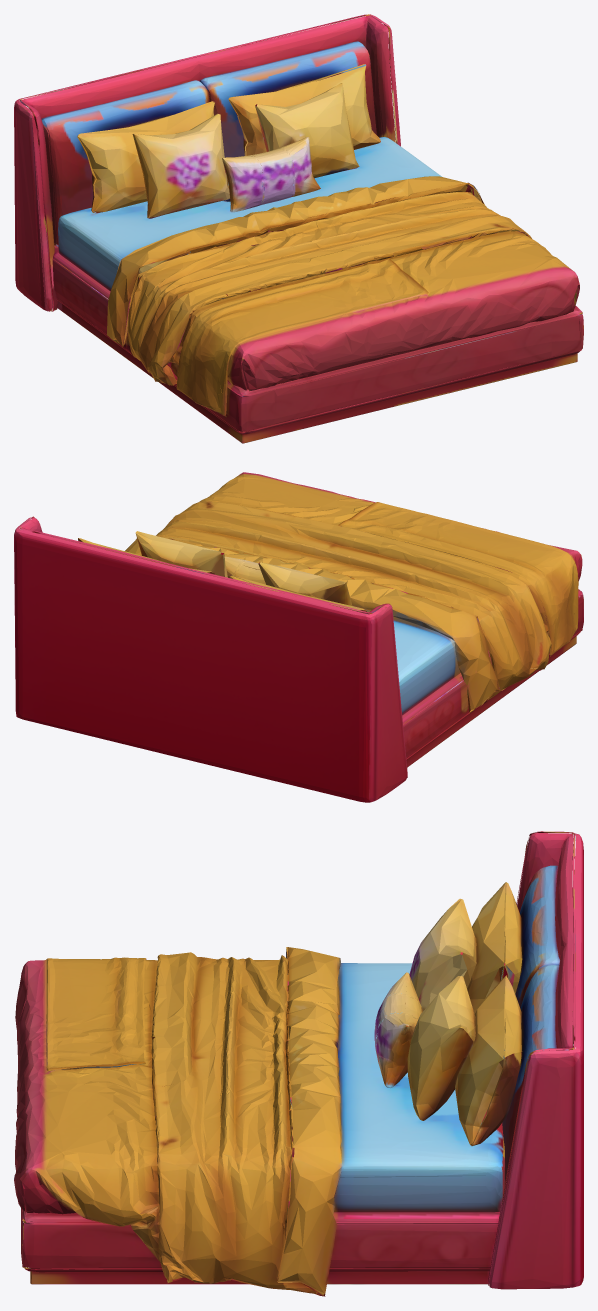
File: edited_mesh.glb
The picture shows the model from 3 angles, top to bottom: view 1: azimuth 30°, elevation 25°; view 2: azimuth 150°, elevation 25°; view 3: azimuth 270°, elevation 25°; orthographic projection. The views are drawn at different scales.
Visible parts, largest first — view 1: solid_001_wire; view 2: solid_001_wire; view 3: solid_001_wire.
Part boxes in pixels (<box>): solid_001_wire: <box>14,14,583,443</box>; solid_001_wire: <box>14,472,583,802</box>; solid_001_wire: <box>14,831,583,1296</box>.
Bounding box in the file's own units: 2 × 0.9449 × 1.97.
1 material, 1 textured.
